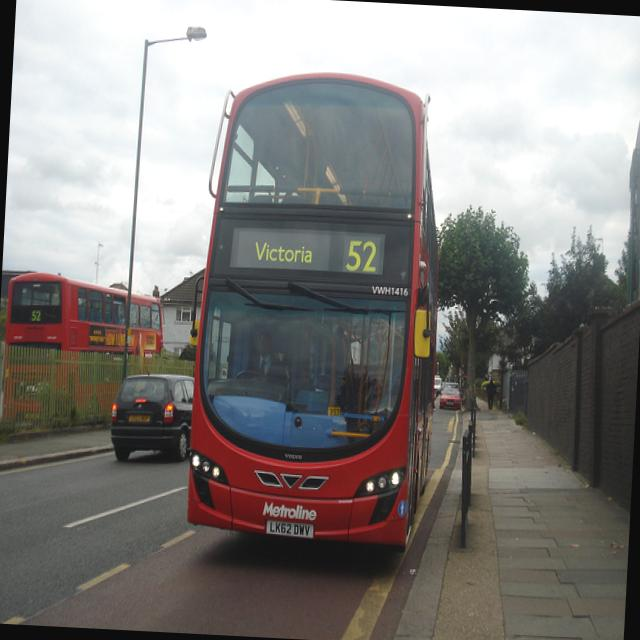Vehicle: (180, 73, 454, 554), (0, 272, 169, 426), (108, 370, 198, 470), (438, 387, 464, 411), (444, 383, 458, 388)
